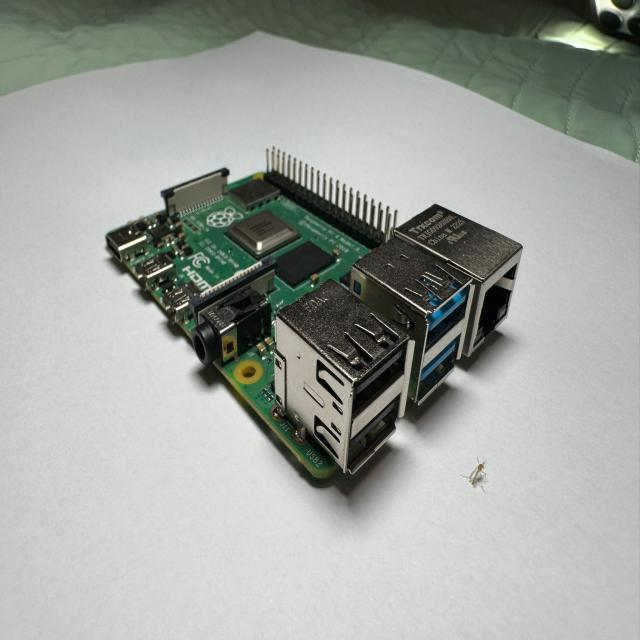CPU: (226, 210, 303, 261)
Ethernet: (390, 202, 528, 360)
GPIO: (261, 146, 400, 248)
RAM: (275, 242, 339, 290)
Raspberry: (105, 153, 523, 498)
micro-hdmi: (135, 258, 175, 297), (165, 285, 201, 325)
